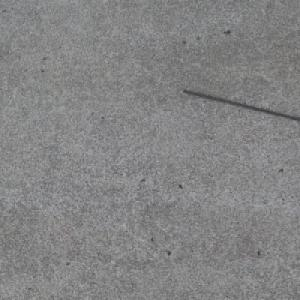LuggagePart: (180, 89, 300, 122)
